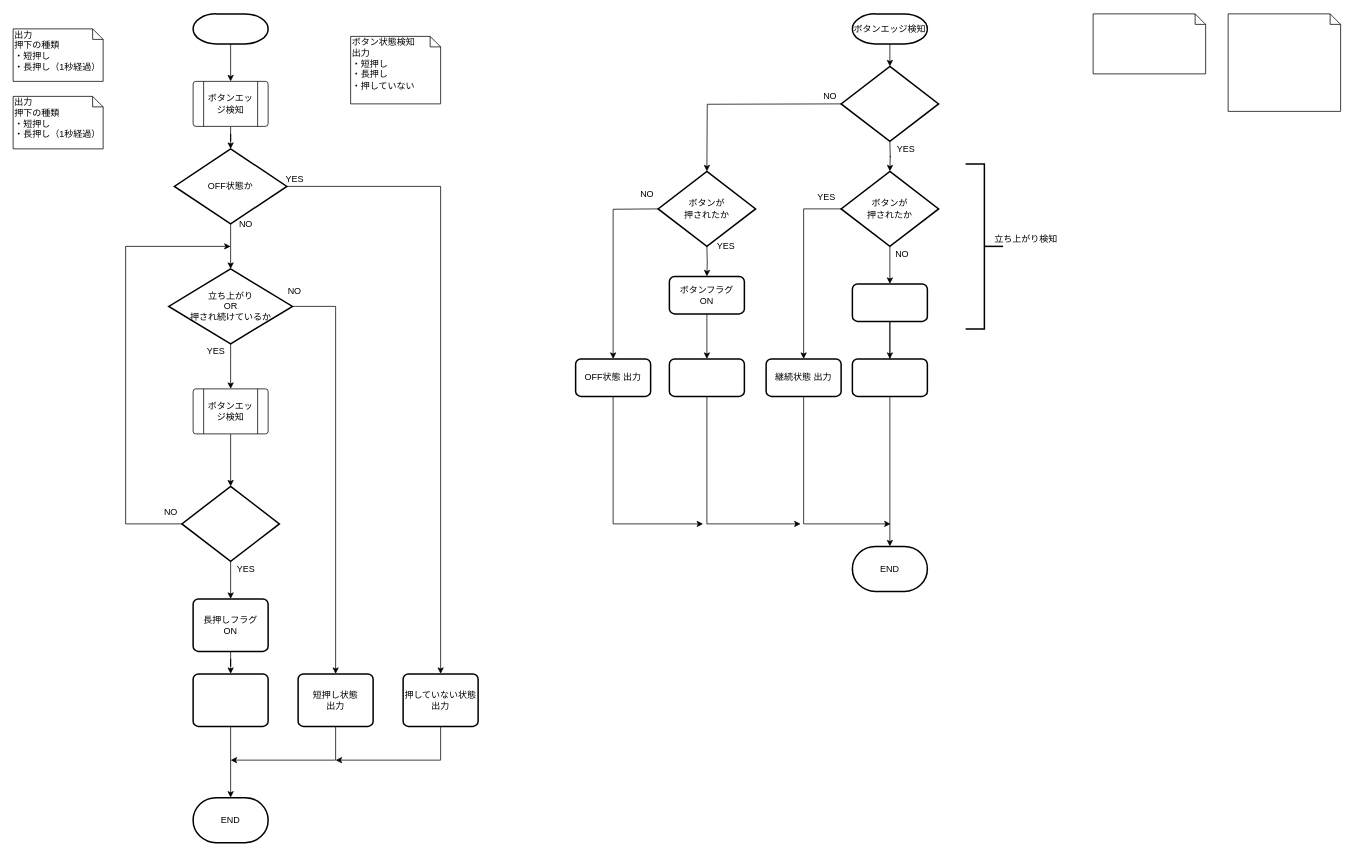
Some shapes in this 1354 by 856 pixel diagram are drawn without their labels. Here are the shapes that lost their labels. From the top down, the centre of each, then its label:
At [230,28]: "ボタン状態検知".
At [1149,43]: "ボタンの押下状態 ・押されてすぐの状態 ・押し続けている状態".
At [1284,62]: "ボタンエッジ検知 入力 ボタン 出力 立ち上がり・下がりめ・OFF".
At [889,103]: "ボタンフラグは ONか".
At [889,302]: "ボタンフラグ OFF".
At [706,377]: "立ち上がり状態 出力".
At [889,377]: "立ち下がり状態 出力".
At [230,523]: "1秒 経過したか".
At [230,700]: "長押し状態 出力".
